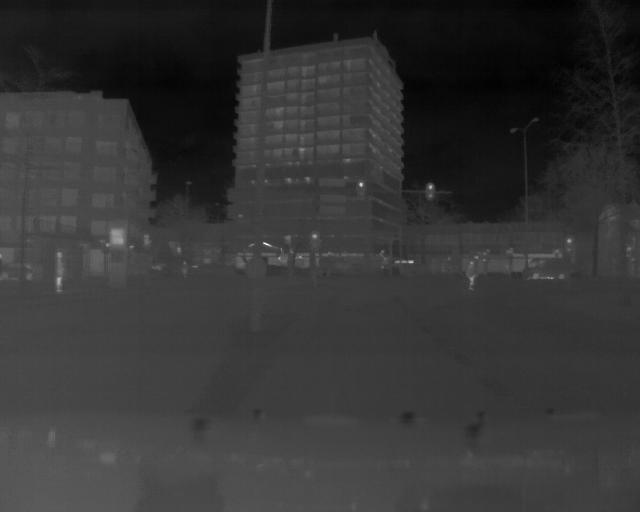person: (54, 248, 70, 298), (465, 254, 483, 291)
